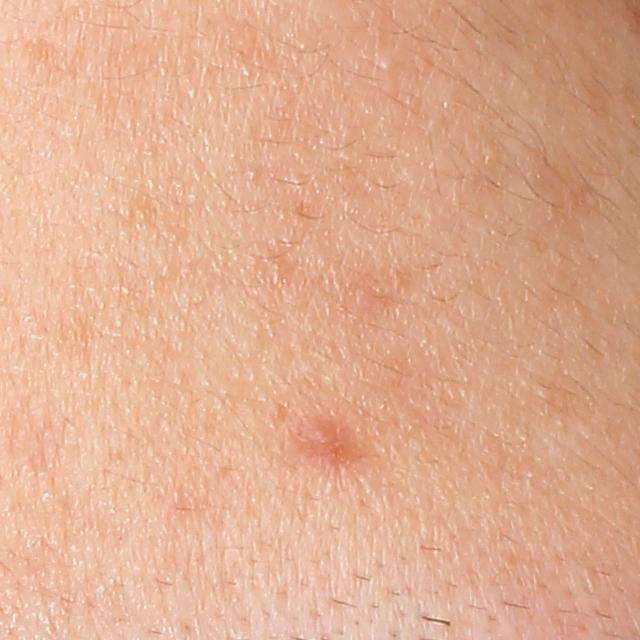comedo: (375, 50, 394, 75)
papule: (295, 414, 354, 464)
